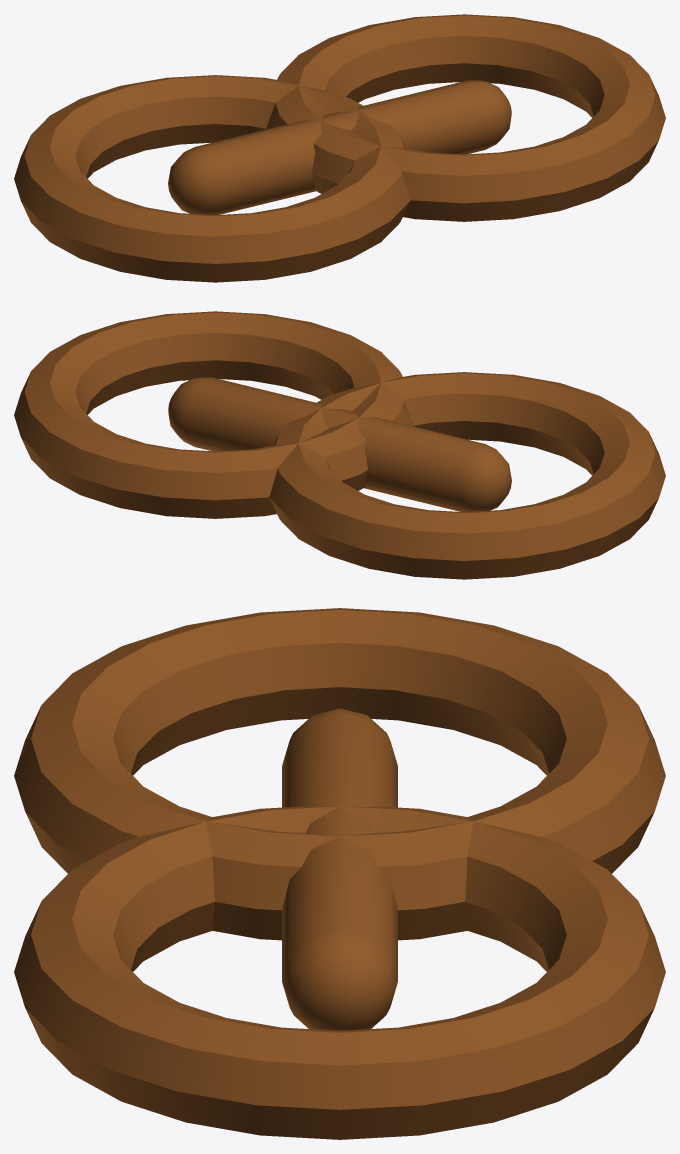
The model's file is Pretzels.fbx.
3 renders of one model, top to bottom at view 1: azimuth 30°, elevation 25°; view 2: azimuth 150°, elevation 25°; view 3: azimuth 270°, elevation 25°, orthographic. The views are drawn at different scales.
Visible parts, largest first — view 1: Pretzels; view 2: Pretzels; view 3: Pretzels.
Boxes of the visible parts, x1,y1,x2,y2 form: Pretzels: (14,14,665,282); Pretzels: (14,311,665,579); Pretzels: (14,608,665,1139).
Size of the model in its own units: 0.125 by 0.013 by 0.073.
